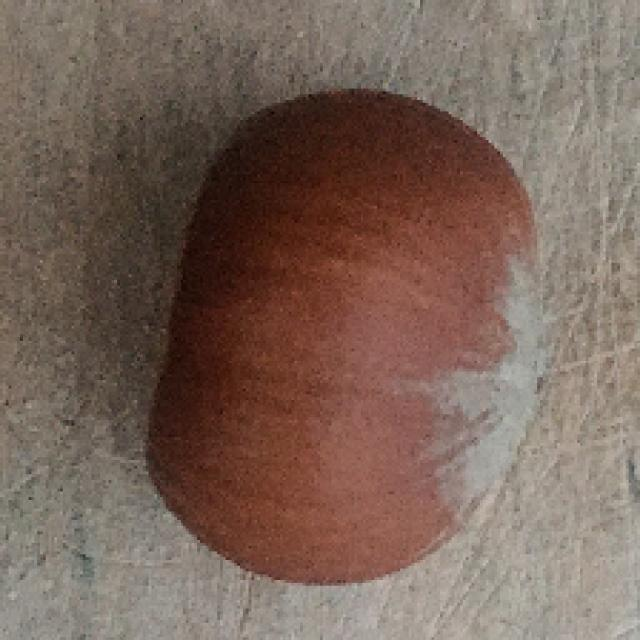DamagedHazelnut: (142, 87, 551, 586)
